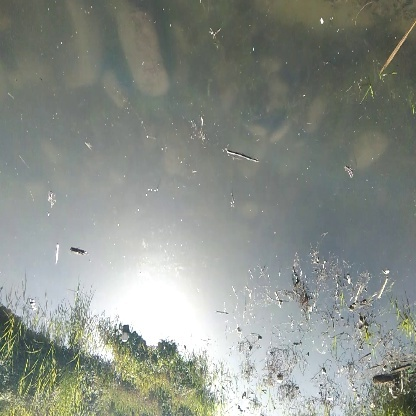grass: (114, 342, 181, 400)
